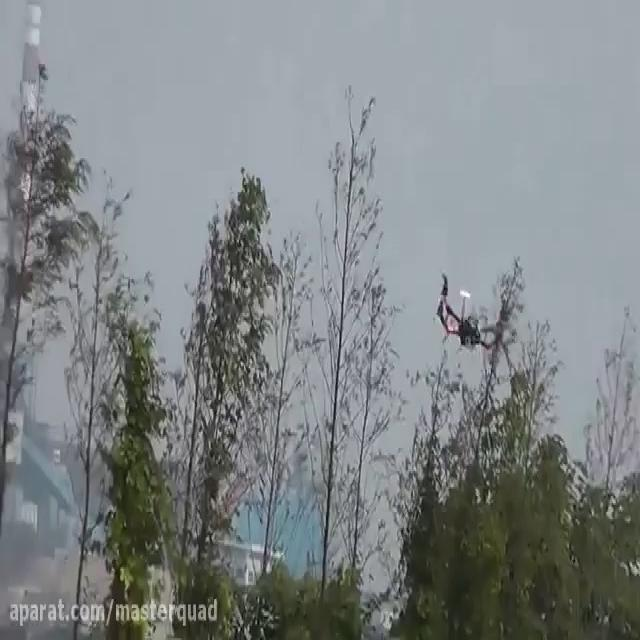drone: (432, 270, 512, 356)
